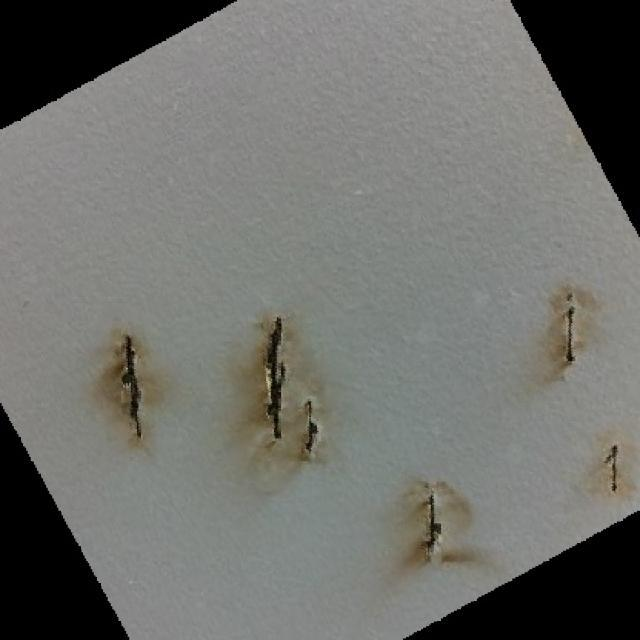crack: (266, 316, 286, 444), (116, 338, 142, 436), (423, 492, 443, 560), (563, 292, 579, 366), (304, 397, 318, 460), (611, 442, 620, 496)
